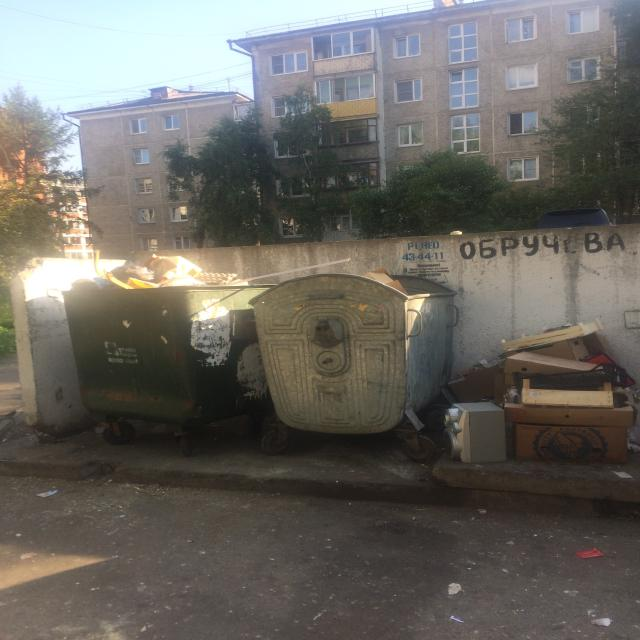bin: (275, 280, 456, 440), (65, 293, 260, 437)
trash: (444, 314, 639, 472), (67, 247, 262, 290)
